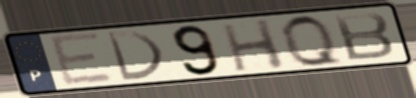9: (170, 23, 224, 77)
B: (330, 10, 398, 63)
D: (103, 29, 167, 82)
E: (45, 30, 117, 89)
H: (217, 17, 290, 74)
Q: (277, 12, 349, 69)
